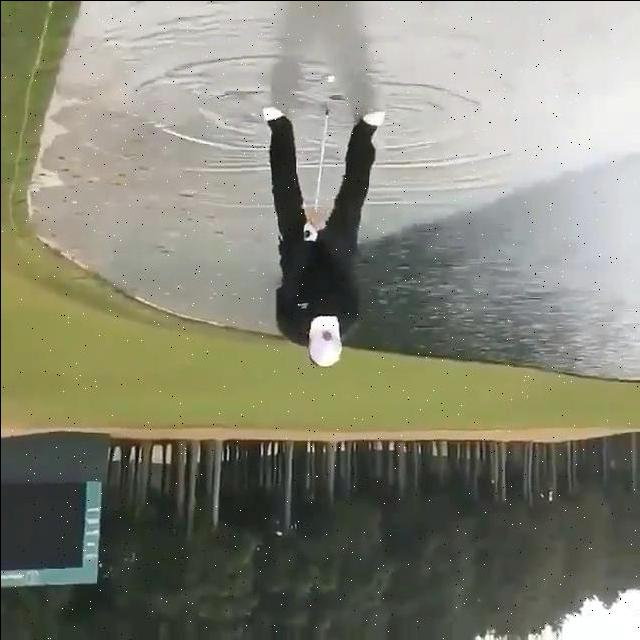ClubHandle: (313, 91, 347, 211)
ClubHead: (325, 92, 347, 103)
GolfBall: (326, 73, 336, 83)
